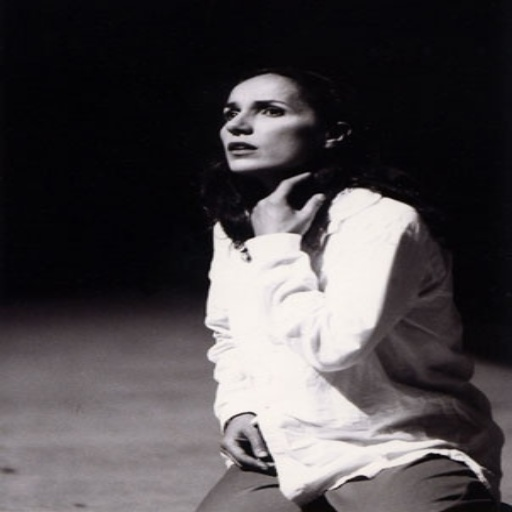hand: (230, 172, 339, 250), (215, 415, 281, 471)
